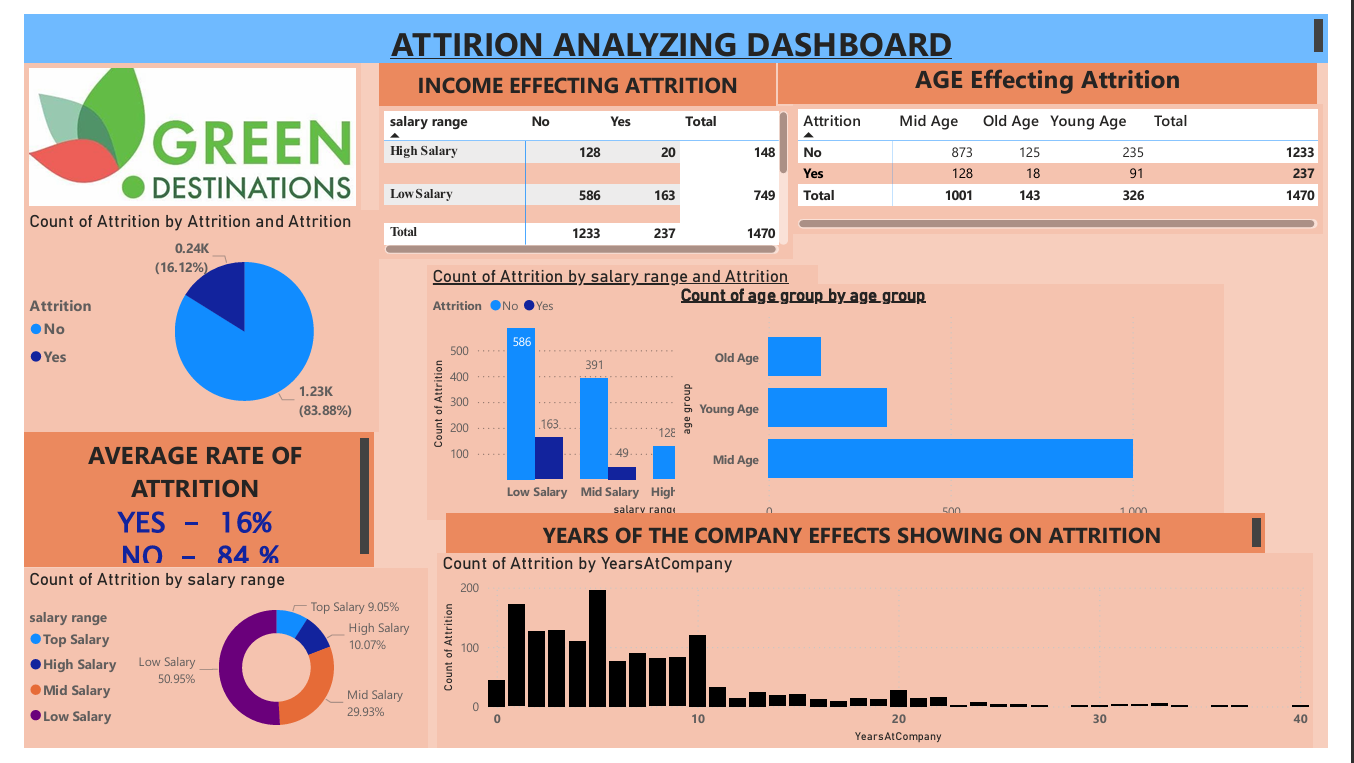

This screenshot's page, from the dashboard's own definition file:
{"tool":"powerbi","page":{"name":"Page 1","canvas":[1280,720],"ordinal":0},"visuals":[{"type":"pieChart","fields":{"Y":["CountNonNull(green destination.Attrition)"],"Series":["green destination.Attrition"],"Category":["green destination.Attrition"]},"box":[0,193.3,348.3,217.3],"z":0},{"type":"pivotTable","fields":{"Rows":["green destination.Attrition"],"Values":["CountNonNull(green destination.age group)"],"Columns":["green destination.age group"]},"box":[755,87.5,520,127.5],"z":1000},{"type":"textbox","box":[0,410.6,343.5,132.6],"z":2000},{"type":"textbox","box":[741.2,41.2,528.8,46.2],"z":3000},{"type":"clusteredColumnChart","fields":{"Category":["green destination.salary range"],"Y":["CountNonNull(green destination.Attrition)"],"Series":["green destination.Attrition"]},"box":[348.8,240,383.8,250],"z":4000},{"type":"pivotTable","fields":{"Rows":["green destination.salary range"],"Values":["CountNonNull(green destination.Attrition)"],"Columns":["green destination.Attrition"]},"box":[348.8,90,406.2,150],"z":5000},{"type":"clusteredBarChart","fields":{"Category":["green destination.Attrition","green destination.age group"],"Y":["CountNonNull(green destination.age group)"]},"box":[741.2,228.8,538.8,252.5],"z":6000},{"type":"textbox","box":[348.8,47.5,388.8,42.5],"z":7000},{"type":"lineStackedColumnComboChart","fields":{"Category":["green destination.YearsAtCompany"],"Y":["Divide(CountNonNull(green destination.Attrition), ScopedEval(CountNonNull(green destination.Attrition), []))"]},"box":[406.2,528.8,860,191.2],"z":8000},{"type":"textbox","box":[415,490,803.8,38.8],"z":9000},{"type":"image","box":[0,47.9,330.7,145.4],"z":10000},{"type":"donutChart","fields":{"Category":["green destination.salary range"],"Y":["CountNonNull(green destination.Attrition)"]},"box":[0,543.8,396.2,176.2],"z":11000},{"type":"textbox","box":[0,0,1280,47.5],"z":12000}]}

Visuals, with their boxes in screenshot pixels (x1, y1, x2, y2), scaled from the page's 1280x720 canvas onto the 1354x763 screenshot:
pieChart - CountNonNull(green destination.Attrition) x green destination.Attrition: [left=0, top=205, right=368, bottom=435]
pivotTable - green destination.Attrition x CountNonNull(green destination.age group): [left=799, top=93, right=1349, bottom=228]
textbox: [left=0, top=435, right=363, bottom=576]
textbox: [left=784, top=44, right=1343, bottom=93]
clusteredColumnChart - green destination.salary range x CountNonNull(green destination.Attrition): [left=369, top=254, right=775, bottom=519]
pivotTable - green destination.salary range x CountNonNull(green destination.Attrition): [left=369, top=95, right=799, bottom=254]
clusteredBarChart - green destination.Attrition x green destination.age group: [left=784, top=242, right=1353, bottom=510]
textbox: [left=369, top=50, right=780, bottom=95]
lineStackedColumnComboChart - green destination.YearsAtCompany x Divide(CountNonNull(green destination.Attrition), ScopedEval(CountNonNull(green destination.Attrition), [])): [left=430, top=560, right=1339, bottom=762]
textbox: [left=439, top=519, right=1289, bottom=560]
image: [left=0, top=51, right=350, bottom=205]
donutChart - green destination.salary range x CountNonNull(green destination.Attrition): [left=0, top=576, right=419, bottom=762]
textbox: [left=0, top=0, right=1353, bottom=50]
